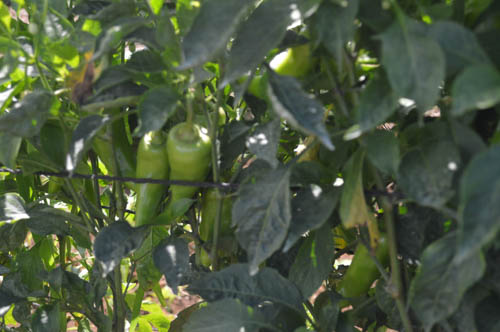ChiliPepper: (165, 127, 213, 209), (343, 233, 391, 299), (134, 136, 168, 224), (90, 111, 135, 177), (198, 188, 227, 260)
